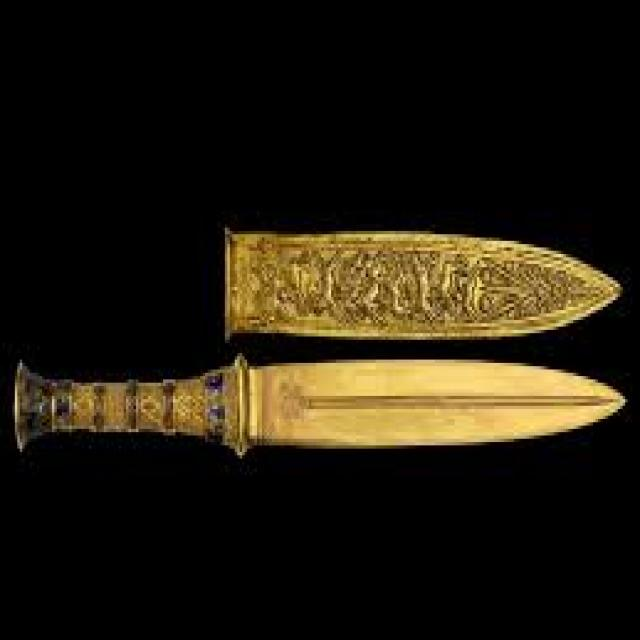Gun: (12, 268, 626, 540)
